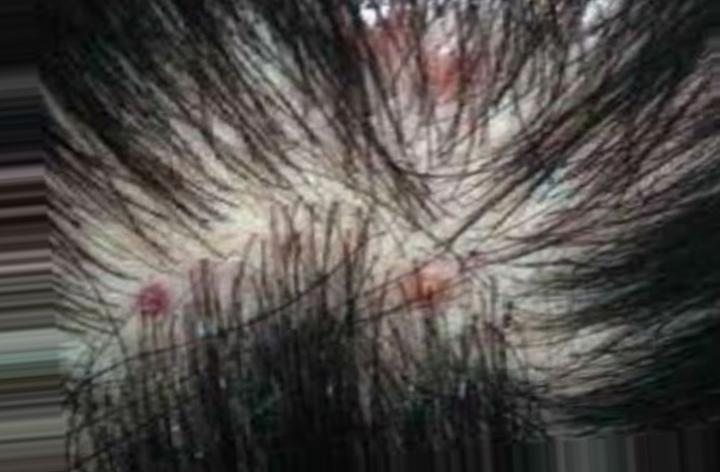Folliculitis: (348, 6, 521, 126), (391, 258, 469, 320), (125, 281, 187, 322)
